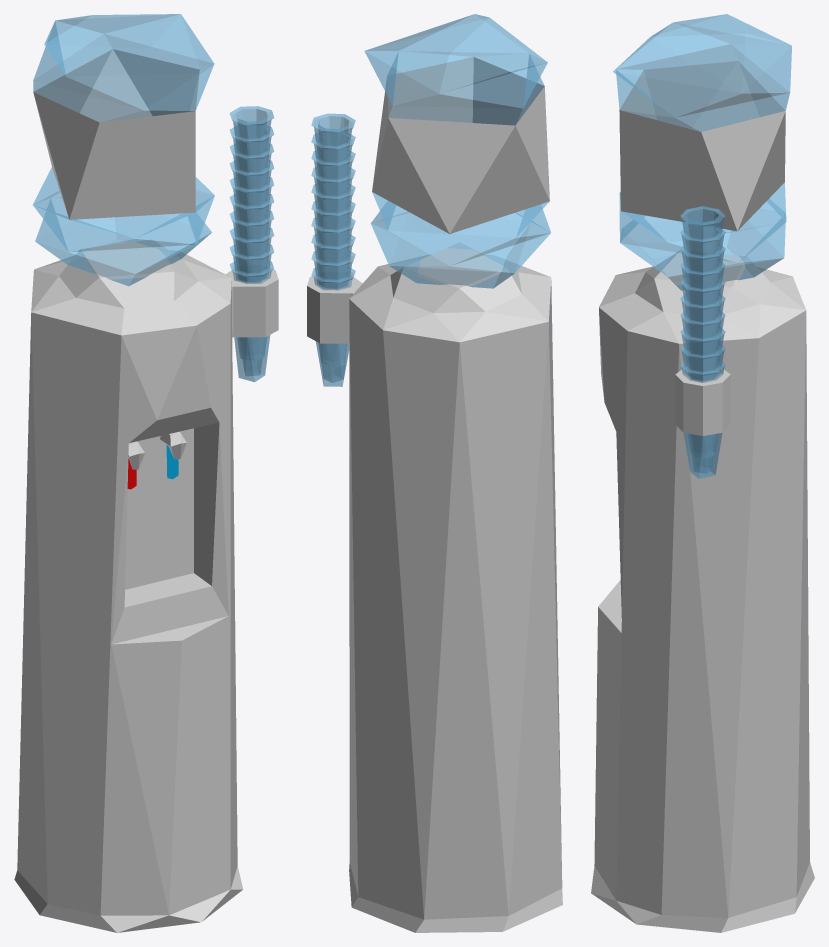
The model's file is fontaine_eau.fbx.
3 views of the same model, side by side, from view 1: azimuth 30°, elevation 25°; view 2: azimuth 150°, elevation 25°; view 3: azimuth 270°, elevation 25° (orthographic).
Visible parts, largest first — view 1: Cylinder.004; view 2: Cylinder.004; view 3: Cylinder.004.
Boxes of the visible parts, x1=… form: Cylinder.004: x1=14, y1=14, x2=278, y2=932; Cylinder.004: x1=307, y1=14, x2=562, y2=932; Cylinder.004: x1=591, y1=14, x2=814, y2=932.
Size of the model in its own units: 42.1 by 141 by 33.76.
